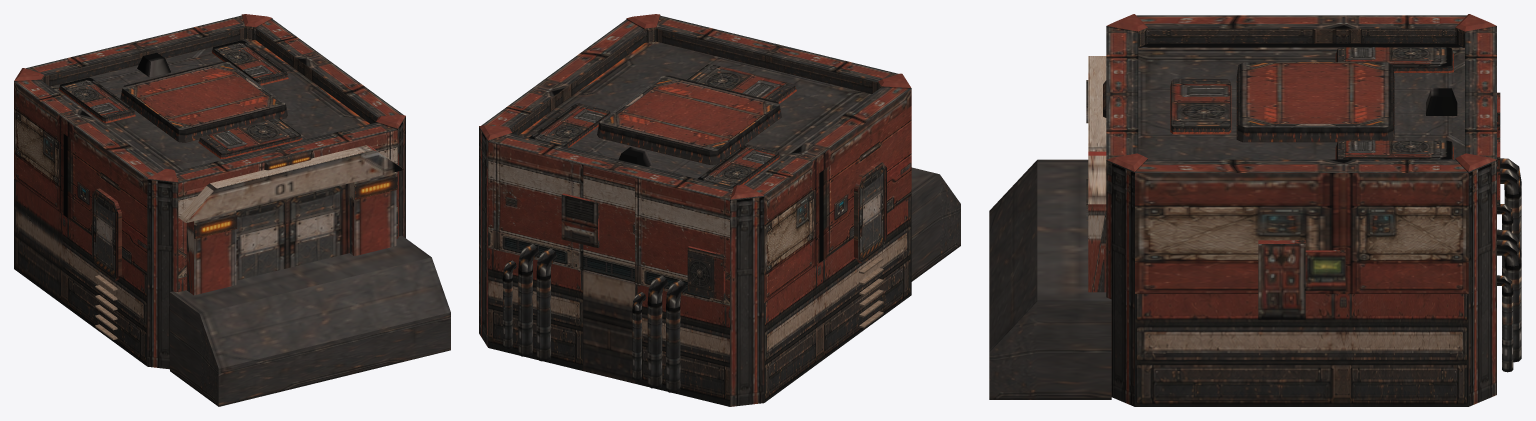
Rendered from stable.dae.
3 renders of one model, left to right at view 1: azimuth 30°, elevation 25°; view 2: azimuth 150°, elevation 25°; view 3: azimuth 270°, elevation 25°, orthographic. The views are drawn at different scales.
Visible parts, largest first — view 1: stable; view 2: stable; view 3: stable.
Part boxes in pixels (bbox=[...]): stable: bbox=[14, 14, 450, 406]; stable: bbox=[479, 14, 960, 406]; stable: bbox=[989, 14, 1521, 406].
Bounding box in the file's own units: 22.93 × 31.33 × 15.55.
